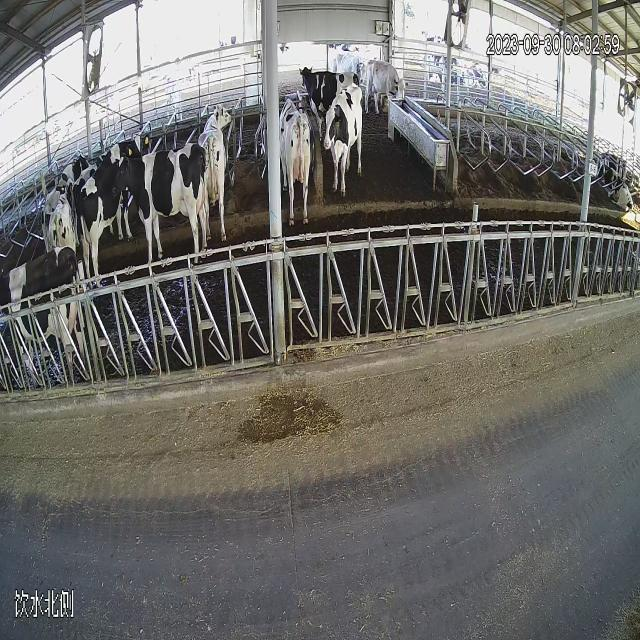standing: (195, 97, 241, 246), (318, 78, 368, 213), (270, 88, 312, 235), (592, 155, 639, 225), (362, 54, 410, 122)
